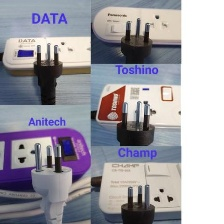three_eye_plug: (0, 116, 92, 198), (95, 158, 185, 222), (94, 81, 182, 134), (89, 3, 186, 49), (0, 35, 92, 79)
